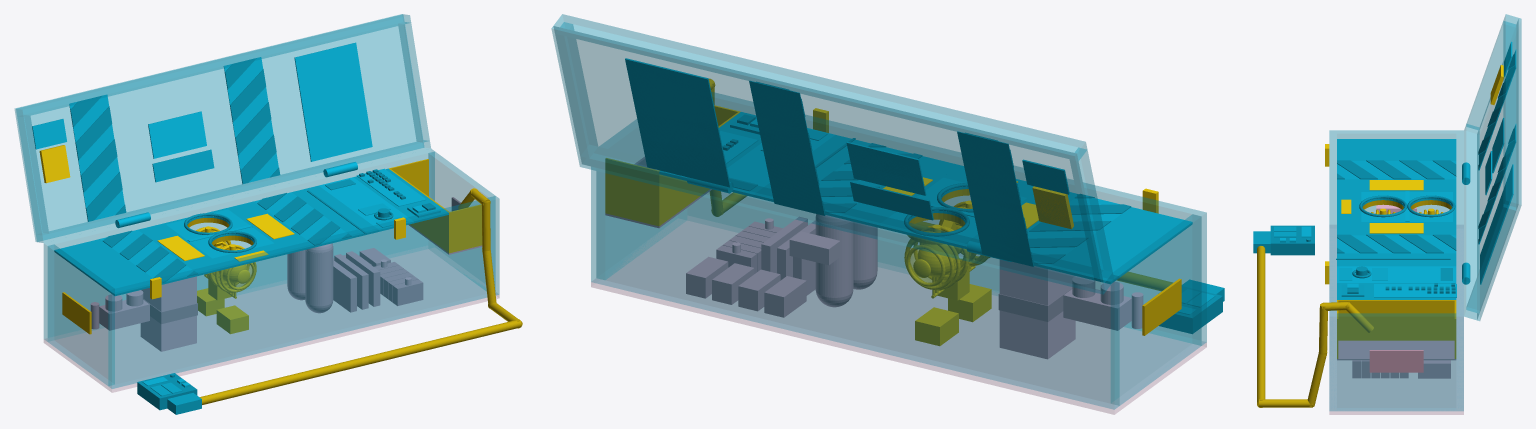
File: c204_A2_ouvert_interne_disposition_I2.glb
The picture shows the model from 3 angles, left to right: view 1: azimuth 30°, elevation 25°; view 2: azimuth 150°, elevation 25°; view 3: azimuth 270°, elevation 25°; orthographic projection. The views are drawn at different scales.
Visible parts, largest first — view 1: A2-002 [DOC] Corps — paroi avant, A2-012 [DOC] Couvercle — dessus, A2-001 [HYP] Corps — fond, A2-003 [DOC] Corps — paroi arrière, A2-029 [DOC] Plaque d'instructions de commande (7), A2-004 [DOC] Corps — paroi d'extrémité gauche, A2-013 [DOC] Couvercle — rebord avant, A2-014 [DOC] Couvercle — rebord arrière, A2-005 [DOC] Corps — paroi d'extrémité droite, A2-104 [DÉD] Cordon spiralé — tronçon 1, A2-161 [HYP] Générateur d'électrons (6) — boîtier, A2-017 [DOC] Couvercle — bande de danger n°1 (fond) (+44 smaller); view 2: A2-012 [DOC] Couvercle — dessus, A2-003 [DOC] Corps — paroi arrière, A2-001 [HYP] Corps — fond, A2-002 [DOC] Corps — paroi avant, A2-013 [DOC] Couvercle — rebord avant, A2-004 [DOC] Corps — paroi d'extrémité gauche, A2-029 [DOC] Plaque d'instructions de commande (7), A2-014 [DOC] Couvercle — rebord arrière, A2-017 [DOC] Couvercle — bande de danger n°1 (fond), A2-023 [DOC] Couvercle — bande de danger n°2 (fond), A2-161 [HYP] Générateur d'électrons (6) — boîtier, A2-005 [DOC] Corps — paroi d'extrémité droite (+37 smaller); view 3: A2-005 [DOC] Corps — paroi d'extrémité droite, A2-001 [HYP] Corps — fond, A2-012 [DOC] Couvercle — dessus, A2-093 [DÉD] Rangement 9 — cloison gauche, A2-013 [DOC] Couvercle — rebord avant, A2-014 [DOC] Couvercle — rebord arrière, A2-002 [DOC] Corps — paroi avant, A2-003 [DOC] Corps — paroi arrière, A2-092 [HYP] Rangement 9 — fond, A2-016 [DOC] Couvercle — rebord droit, A2-015 [DOC] Couvercle — rebord gauche, A2-061 [DOC] Platine — zone 4 (support de l'écran de secours (+37 smaller).
Part boxes in pixels (<box>): A2-002 [DOC] Corps — paroi avant: <box>108,196,499,388</box>; A2-012 [DOC] Couvercle — dessus: <box>15,14,423,241</box>; A2-001 [HYP] Corps — fond: <box>44,249,499,392</box>; A2-003 [DOC] Corps — paroi arrière: <box>44,149,434,341</box>; A2-029 [DOC] Plaque d'instructions de commande (7): <box>294,42,372,161</box>; A2-004 [DOC] Corps — paroi d'extrémité gauche: <box>48,244,114,385</box>; A2-013 [DOC] Couvercle — rebord avant: <box>16,14,410,116</box>; A2-014 [DOC] Couvercle — rebord arrière: <box>36,140,430,242</box>; A2-005 [DOC] Corps — paroi d'extrémité droite: <box>428,152,495,290</box>; A2-104 [DÉD] Cordon spiralé — tronçon 1: <box>199,319,521,404</box>; A2-161 [HYP] Générateur d'électrons (6) — boîtier: <box>140,276,196,351</box>; A2-017 [DOC] Couvercle — bande de danger n°1 (fond): <box>69,94,124,221</box>; A2-012 [DOC] Couvercle — dessus: <box>551,26,1105,294</box>; A2-003 [DOC] Corps — paroi arrière: <box>591,167,1119,409</box>; A2-001 [HYP] Corps — fond: <box>591,221,1206,414</box>; A2-002 [DOC] Corps — paroi avant: <box>687,92,1206,345</box>; A2-013 [DOC] Couvercle — rebord avant: <box>554,14,1087,160</box>; A2-004 [DOC] Corps — paroi d'extrémité gauche: <box>1111,214,1201,405</box>; A2-029 [DOC] Plaque d'instructions de commande (7): <box>625,58,730,187</box>; A2-014 [DOC] Couvercle — rebord arrière: <box>581,147,1113,291</box>; A2-017 [DOC] Couvercle — bande de danger n°1 (fond): <box>957,131,1033,266</box>; A2-023 [DOC] Couvercle — bande de danger n°2 (fond): <box>749,81,824,215</box>; A2-161 [HYP] Générateur d'électrons (6) — boîtier: <box>999,260,1075,359</box>; A2-005 [DOC] Corps — paroi d'extrémité droite: <box>596,119,682,279</box>; A2-005 [DOC] Corps — paroi d'extrémité droite: <box>1337,313,1455,410</box>; A2-001 [HYP] Corps — fond: <box>1329,225,1463,414</box>; A2-012 [DOC] Couvercle — dessus: <box>1477,18,1521,320</box>; A2-093 [DÉD] Rangement 9 — cloison gauche: <box>1337,300,1456,340</box>; A2-013 [DOC] Couvercle — rebord avant: <box>1503,14,1518,210</box>; A2-014 [DOC] Couvercle — rebord arrière: <box>1464,124,1479,319</box>; A2-002 [DOC] Corps — paroi avant: <box>1329,130,1336,410</box>; A2-003 [DOC] Corps — paroi arrière: <box>1456,130,1463,410</box>; A2-092 [HYP] Rangement 9 — fond: <box>1337,340,1456,360</box>; A2-016 [DOC] Couvercle — rebord droit: <box>1466,204,1515,313</box>; A2-015 [DOC] Couvercle — rebord gauche: <box>1466,21,1515,130</box>; A2-061 [DOC] Platine — zone 4 (support de l'écran de secours: <box>1337,253,1456,266</box>.
Size of the model in its own units: 0.858 by 0.4563 by 0.5175.
